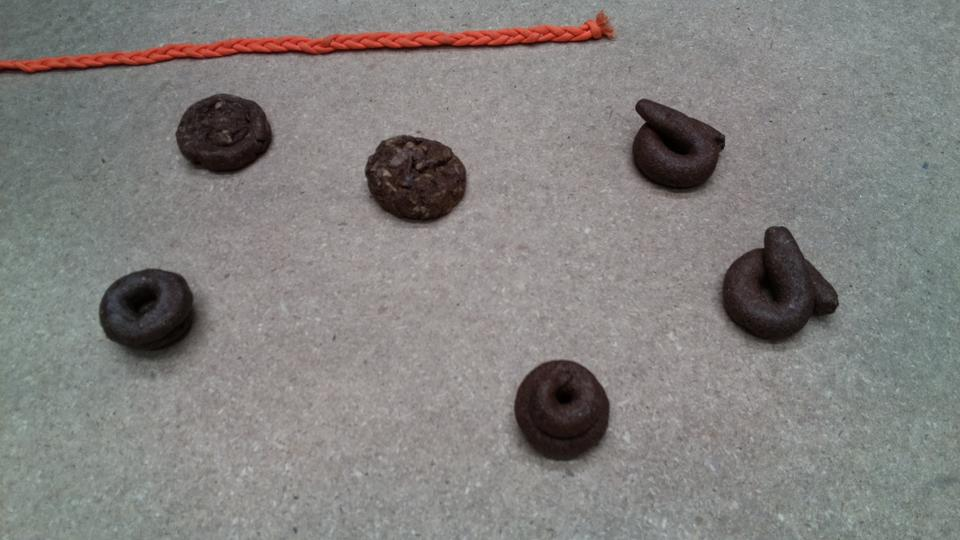poop: (718, 223, 843, 348), (359, 129, 471, 233), (513, 356, 615, 466), (628, 95, 733, 196), (93, 263, 196, 360), (170, 89, 280, 179)
rope: (1, 11, 616, 76)
